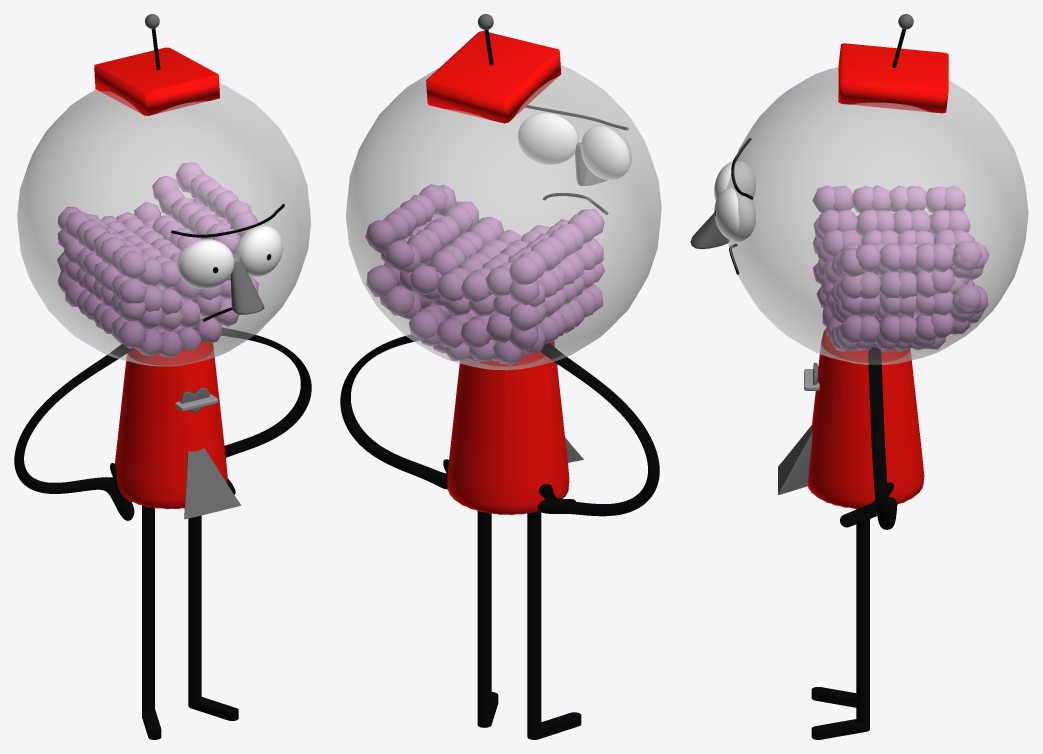
File: benson.glb
3 renders of one model, left to right at view 1: azimuth 30°, elevation 25°; view 2: azimuth 150°, elevation 25°; view 3: azimuth 270°, elevation 25°, orthographic. The views are drawn at different scales.
Parts seen in each view (by area): view 1: Sphere_1, Sphere.027_3, Cylinder.001_9, Cylinder.003_12, Cube.001_6, Cylinder.002_14, Sphere.205_4, Cube.003_13, Cube_2, BezierCurve.001_15; view 2: Sphere_1, Sphere.027_3, Cylinder.001_9, Cube.001_6, Cylinder.003_12, Cylinder.002_14, Sphere.205_4, BezierCurve.001_15, Cube_2; view 3: Sphere_1, Sphere.027_3, Cylinder.001_9, Cube.001_6, Cylinder.003_12, Cylinder.002_14, Sphere.205_4, Cube.003_13, Cube_2.
Part boxes in pixels (x1,y1,x2,y2): Sphere_1: (17,83,310,366); Sphere.027_3: (57,162,258,357); Cylinder.001_9: (115,341,227,508); Cylinder.003_12: (142,505,238,739); Cube.001_6: (94,47,219,115); Cylinder.002_14: (14,327,311,520); Sphere.205_4: (177,225,282,288); Cube.003_13: (184,447,240,519); Cube_2: (230,259,264,314); BezierCurve.001_15: (171,204,284,321); Sphere_1: (346,65,661,370); Sphere.027_3: (365,184,605,364); Cylinder.001_9: (447,341,569,514); Cube.001_6: (426,31,561,123); Cylinder.003_12: (477,511,581,739); Cylinder.002_14: (340,334,659,516); Sphere.205_4: (518,112,631,180); BezierCurve.001_15: (525,105,628,214); Cube_2: (575,142,606,185); Sphere_1: (727,67,1028,364); Sphere.027_3: (812,185,988,352); Cylinder.001_9: (808,328,924,508); Cube.001_6: (838,43,948,113); Cylinder.003_12: (811,509,869,739); Cylinder.002_14: (840,347,897,529); Sphere.205_4: (714,160,755,241); Cube.003_13: (778,425,812,494); Cube_2: (690,213,729,249).
Bounding box in the file's own units: 3.02 × 6.66 × 2.9.
7 materials, 1 textured.
